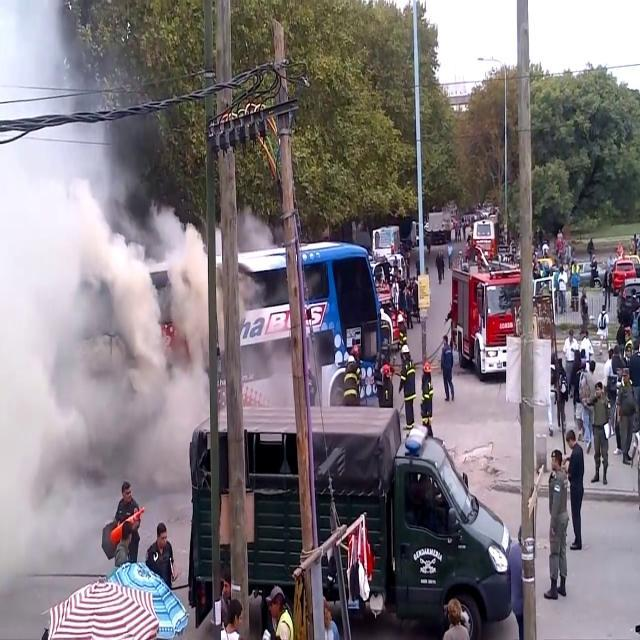Smoke: (0, 1, 211, 574)
